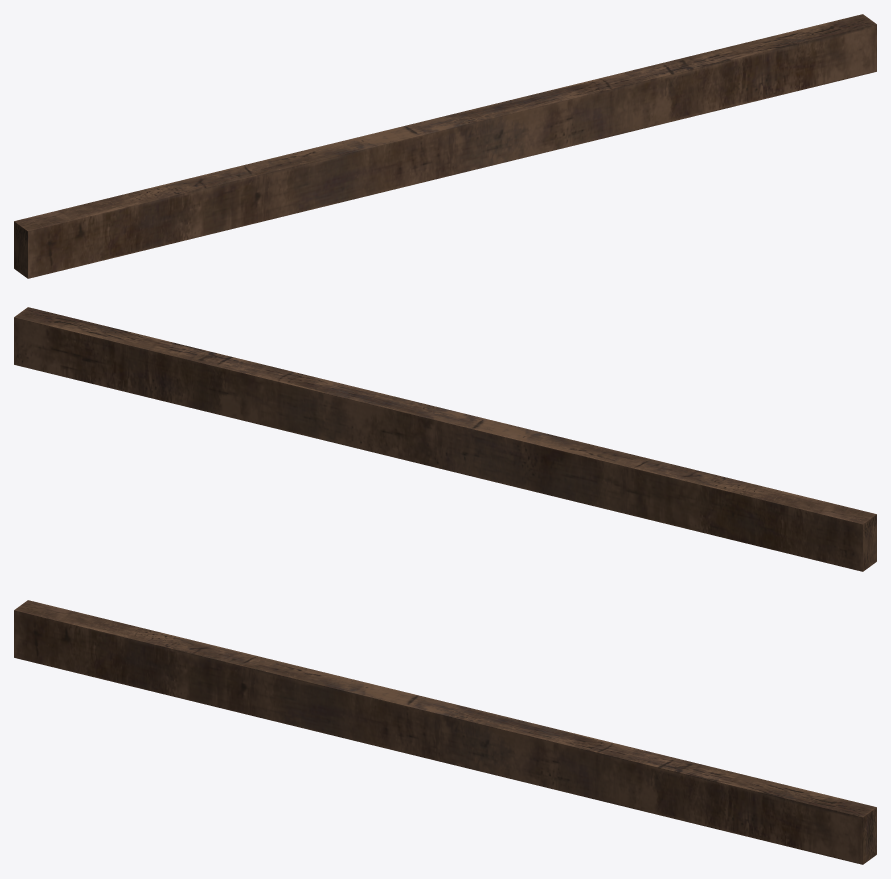
File: SM_WoodBeam_01.fbx
3 renders of one model, top to bottom at view 1: azimuth 30°, elevation 25°; view 2: azimuth 150°, elevation 25°; view 3: azimuth 330°, elevation 25°, orthographic.
Parts seen in each view (by area): view 1: SM_WoodBeam_01; view 2: SM_WoodBeam_01; view 3: SM_WoodBeam_01.
Boxes of the visible parts, x1,y1,x2,y2 form: SM_WoodBeam_01: (14,14,876,278); SM_WoodBeam_01: (14,307,876,571); SM_WoodBeam_01: (14,600,876,864).
Size of the model in its own units: 571 by 16.32 by 30.51.
Materials: 1 (1 with a texture image).
